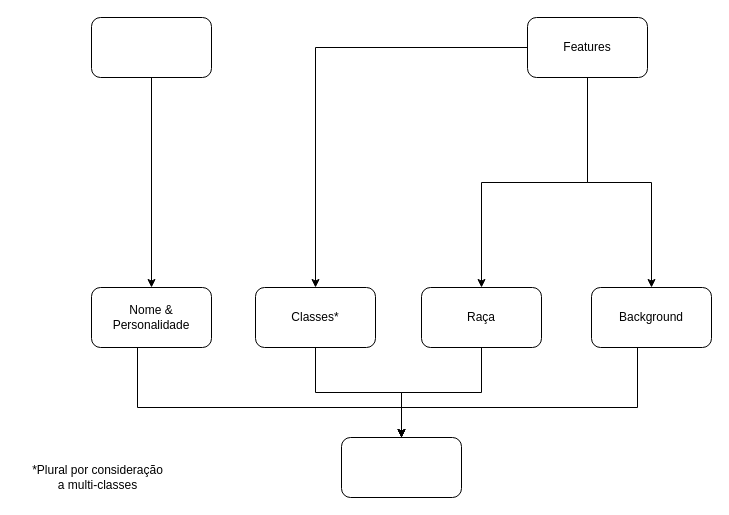
Image size: 729x515. Some labels were removed from this diagram. The shapes that lost their labels are listed below. From the top down, each one's centre as x and y in pixels, then its label:
point (151, 47): Campo de Texto próprio
point (401, 467): Zacarias, o Mestre das Batalhas
